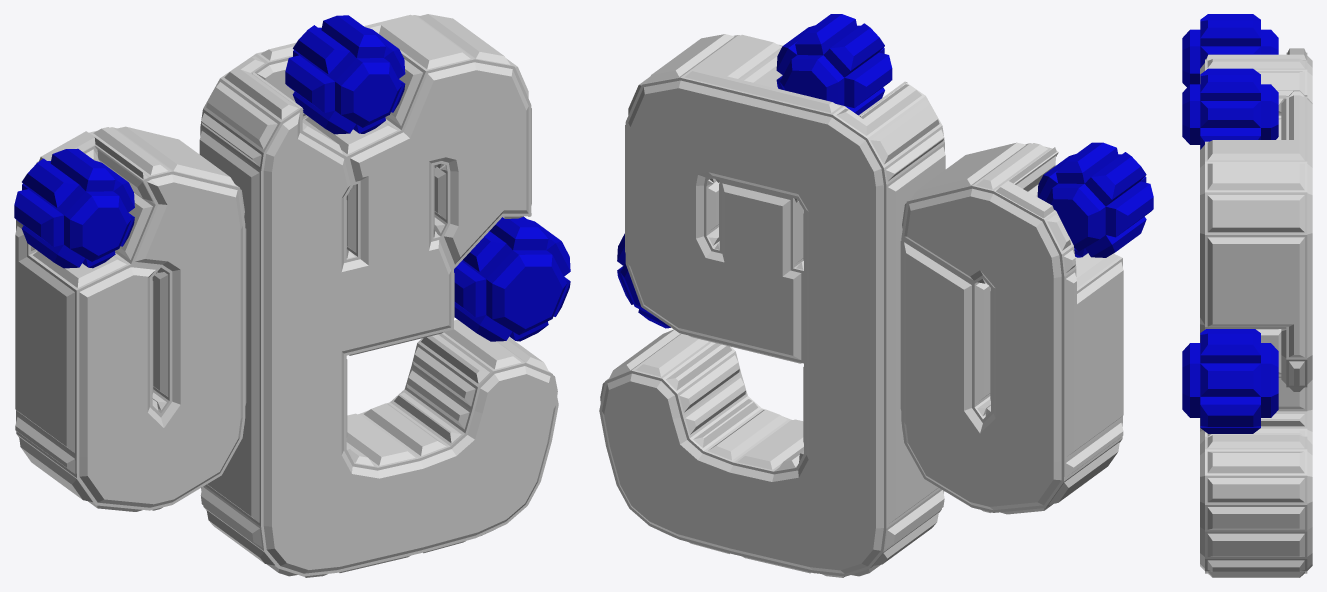
Rendered from Ch_China_吧_01.fbx.
The picture shows the model from 3 angles, left to right: view 1: azimuth 30°, elevation 25°; view 2: azimuth 150°, elevation 25°; view 3: azimuth 270°, elevation 25°; orthographic projection. The views are drawn at different scales.
Parts seen in each view (by area): view 1: sphere1; view 2: sphere1; view 3: sphere1.
Part boxes in pixels (left/top/right/bottom): sphere1: left=14, top=14, right=570, bottom=577; sphere1: left=599, top=14, right=1153, bottom=577; sphere1: left=1182, top=14, right=1312, bottom=577.
Bounding box in the file's own units: 1.01 × 0.974 × 0.2541.
